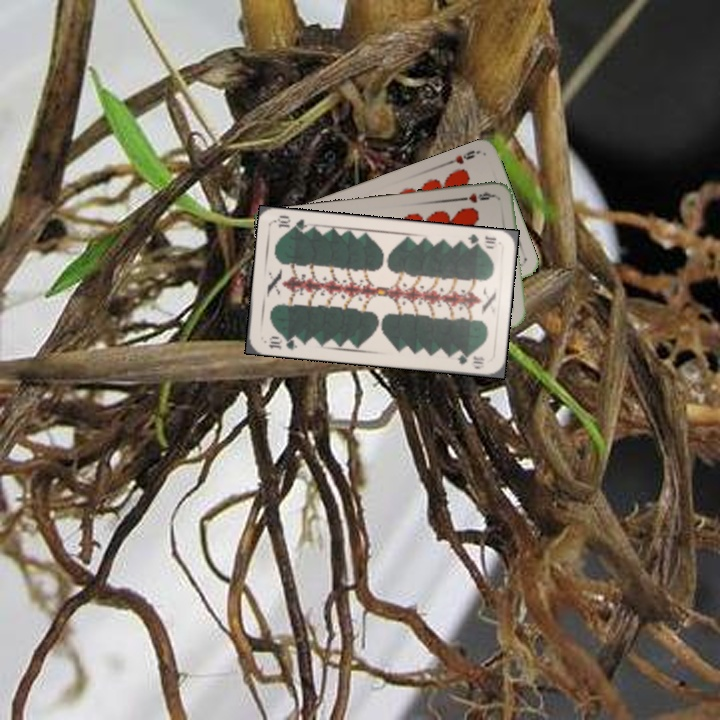G10: (265, 332, 302, 353), (464, 230, 499, 250)
H9: (442, 146, 481, 167), (457, 188, 497, 205)
